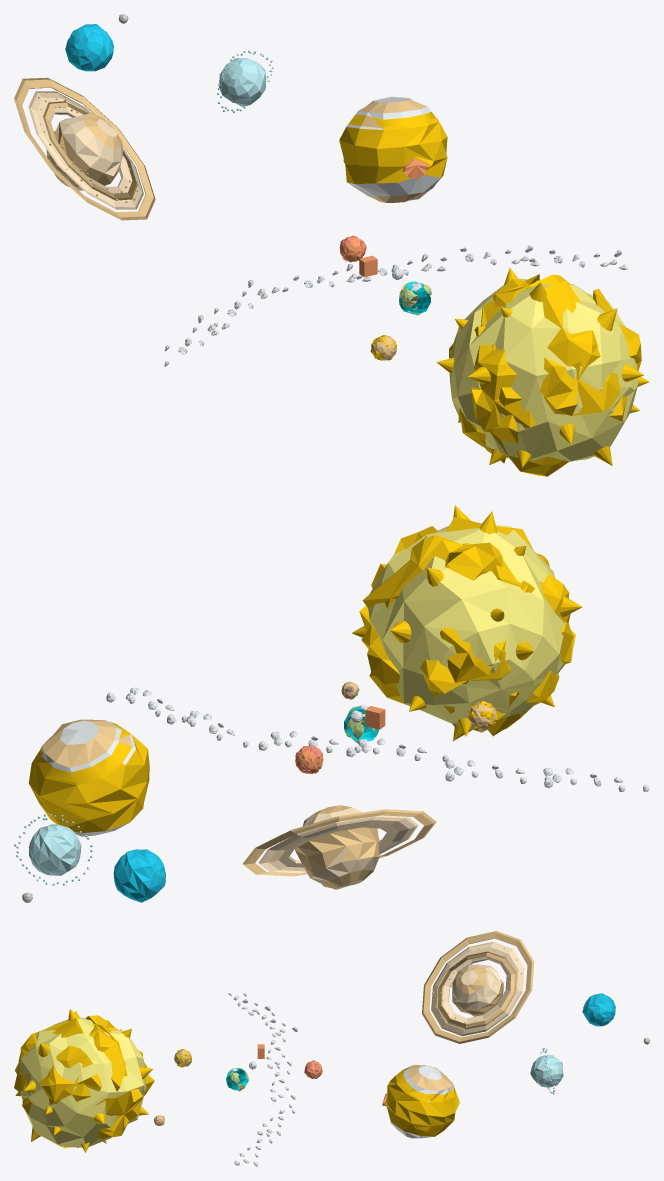
3 views of the same model, one above another, from view 1: azimuth 30°, elevation 25°; view 2: azimuth 150°, elevation 25°; view 3: azimuth 270°, elevation 25° (orthographic). The views are drawn at different scales.
Parts seen in each view (by area): view 1: model; view 2: model; view 3: model.
Part boxes in pixels (bbox=[...]): model: bbox=[14, 14, 649, 476]; model: bbox=[14, 505, 649, 902]; model: bbox=[14, 931, 649, 1166].
Size of the model in its own units: 51.86 by 20.96 by 87.52.
